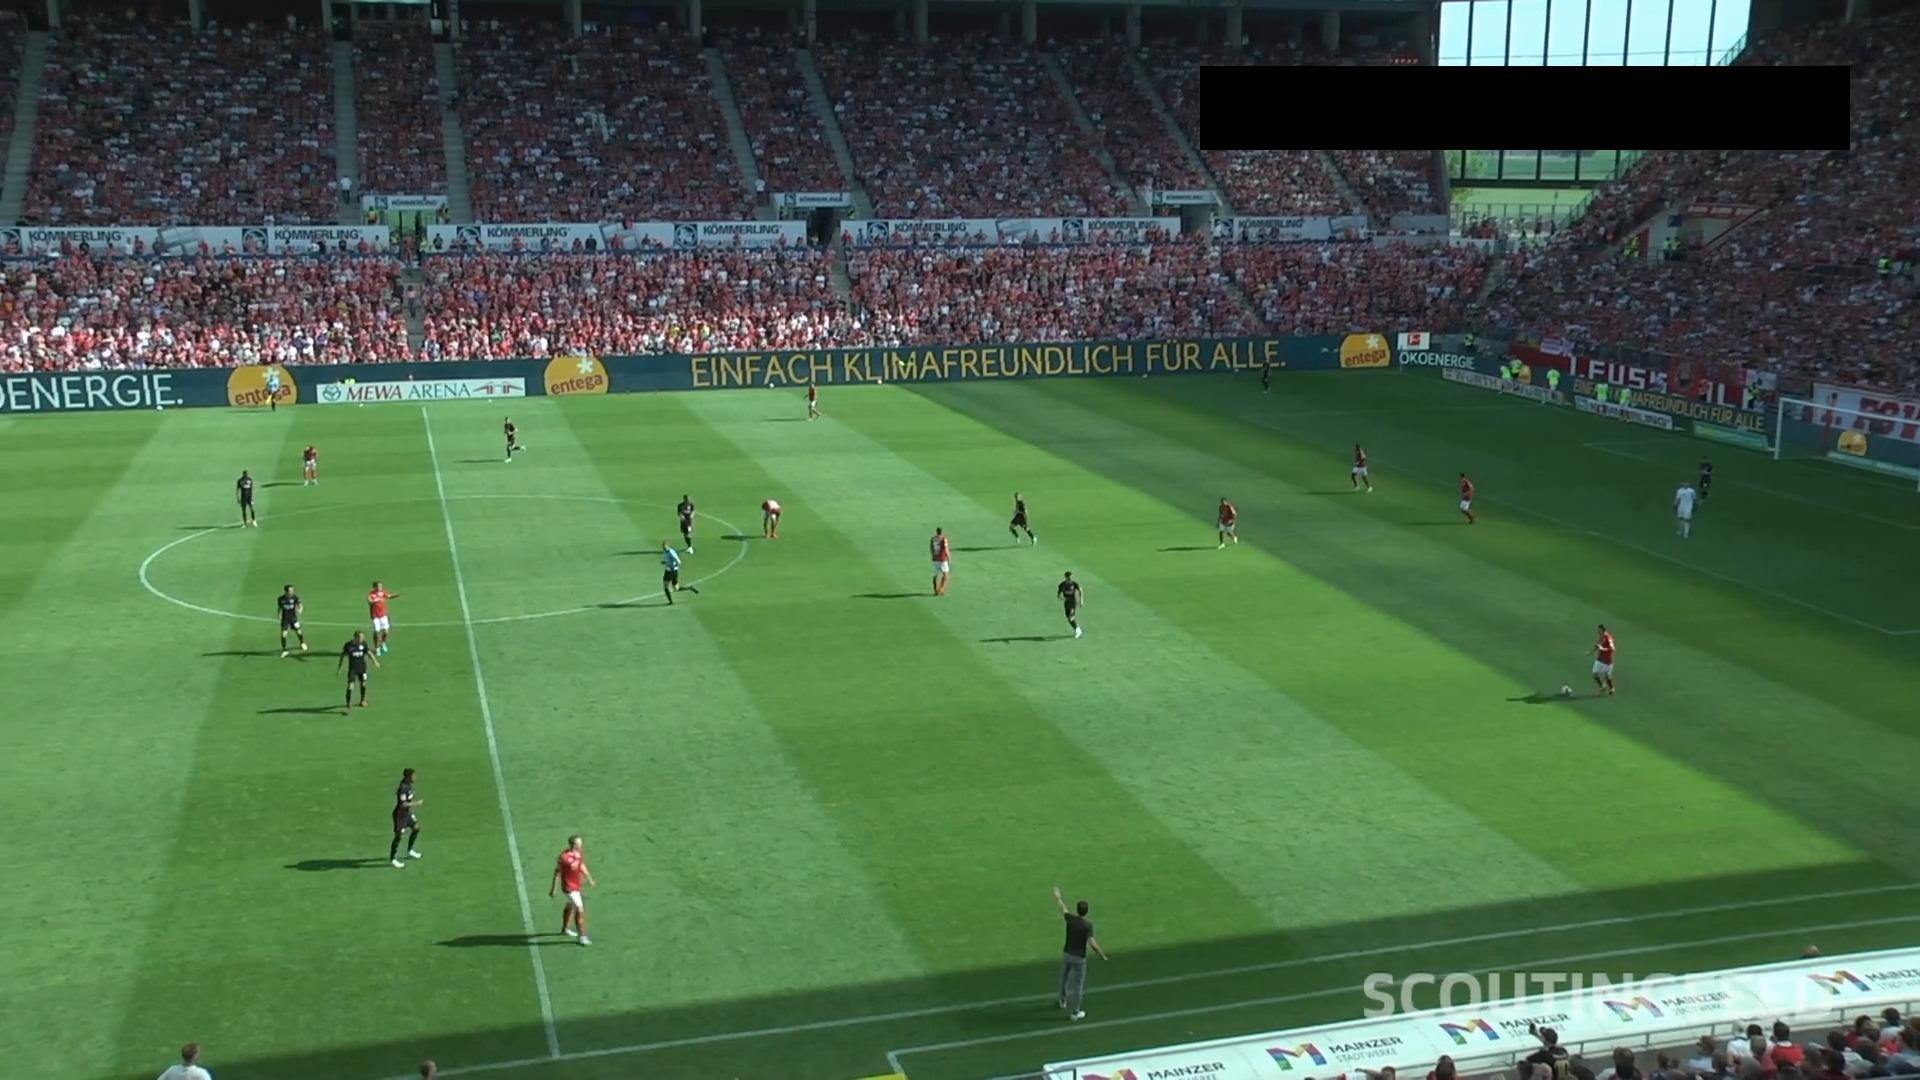ball: (1560, 685, 1573, 698)
